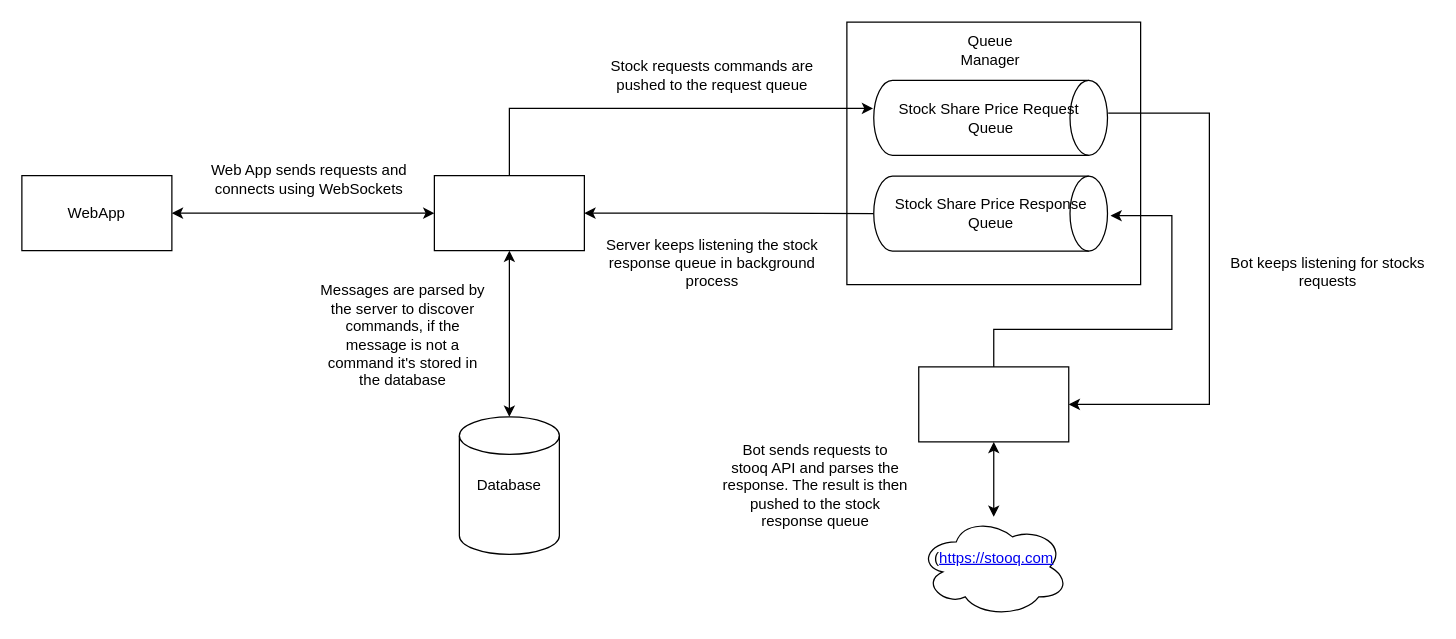
The diagram is 1456 pixels wide and 639 high, and some of its shapes have lost their labels. The shapes that lost their labels are listed below. From the top down, each one's centre as x and y in pixels, then its label:
point 508,212: WebAPI
point 993,404: StockBot
